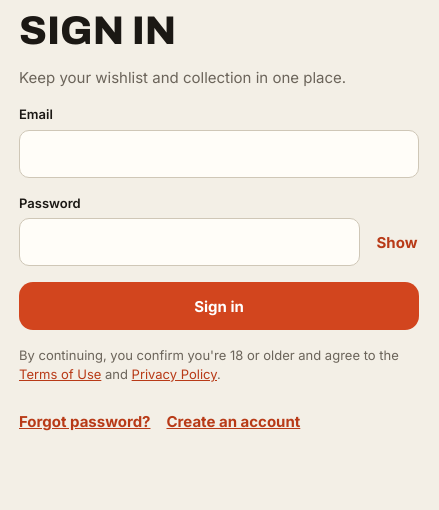
Scenario: Sign in › AC-20 shows one message for a wrong email or password
In the field labelled "Email": (219, 154) [19,130,419,178], type "a@example.com"
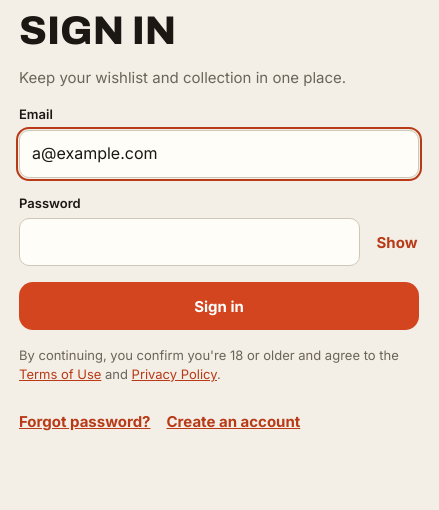
In the password field labelled "Password": (190, 242) [19,218,360,266], type "wrong-password"
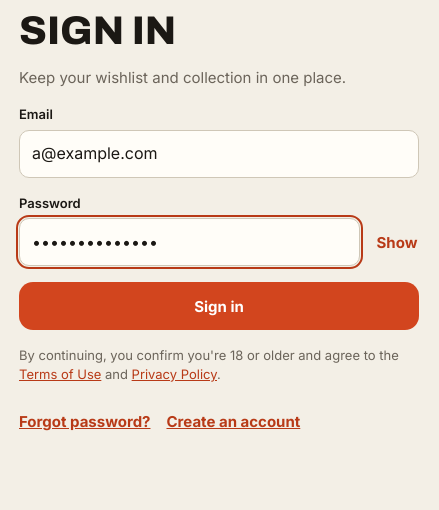
Click the button "Sign in": (219, 306) [19,282,419,330]
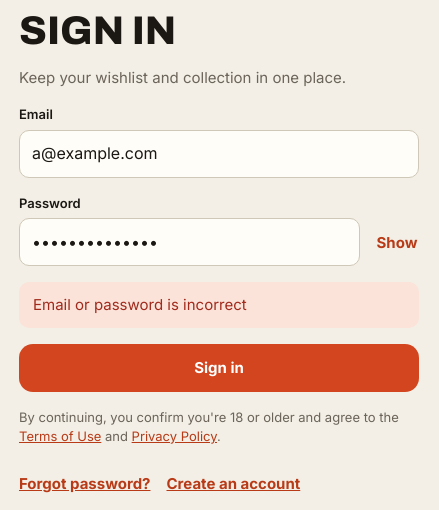
Expected: the message reads "Email or password is incorrect", [33,295,247,314]
